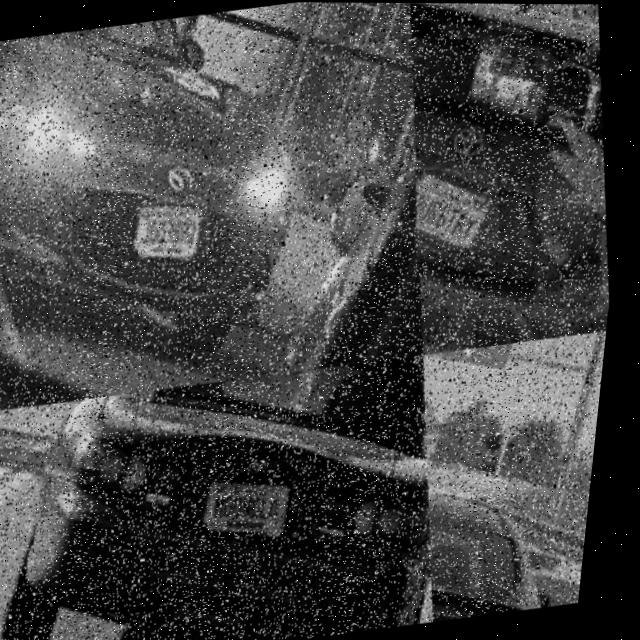LicensePlate: (421, 170, 503, 248), (220, 476, 306, 529), (145, 202, 212, 252)
